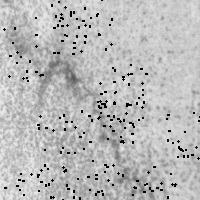pitted_surface: (72, 4, 177, 196), (88, 81, 143, 141), (37, 110, 92, 169), (51, 0, 111, 53), (97, 64, 145, 119), (0, 27, 41, 80), (95, 164, 154, 200), (40, 164, 97, 200), (166, 100, 200, 157), (35, 0, 89, 34), (132, 173, 188, 200), (0, 173, 52, 200)
